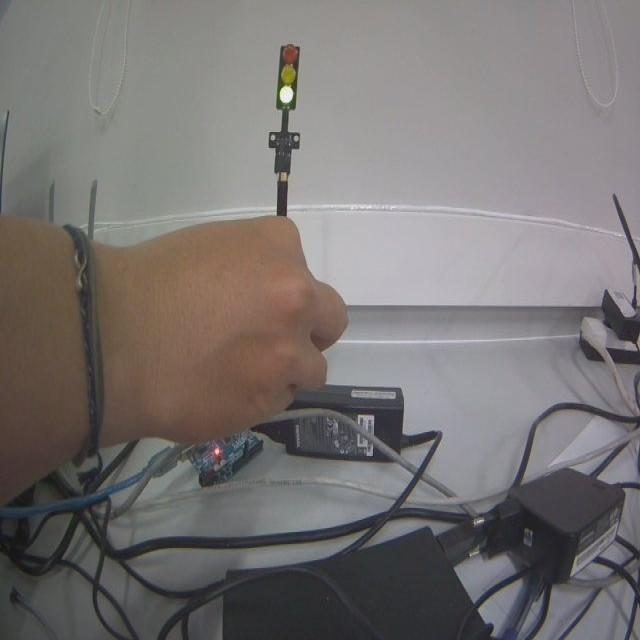Lampu Hijau: (274, 44, 299, 113)
